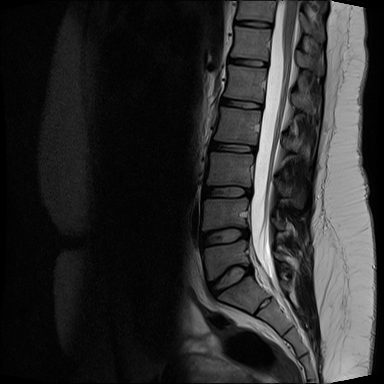Normal IVD: (202, 257, 256, 302), (194, 223, 254, 252), (204, 136, 260, 158), (197, 181, 253, 202), (220, 53, 274, 72), (215, 92, 266, 112), (228, 16, 274, 30)
